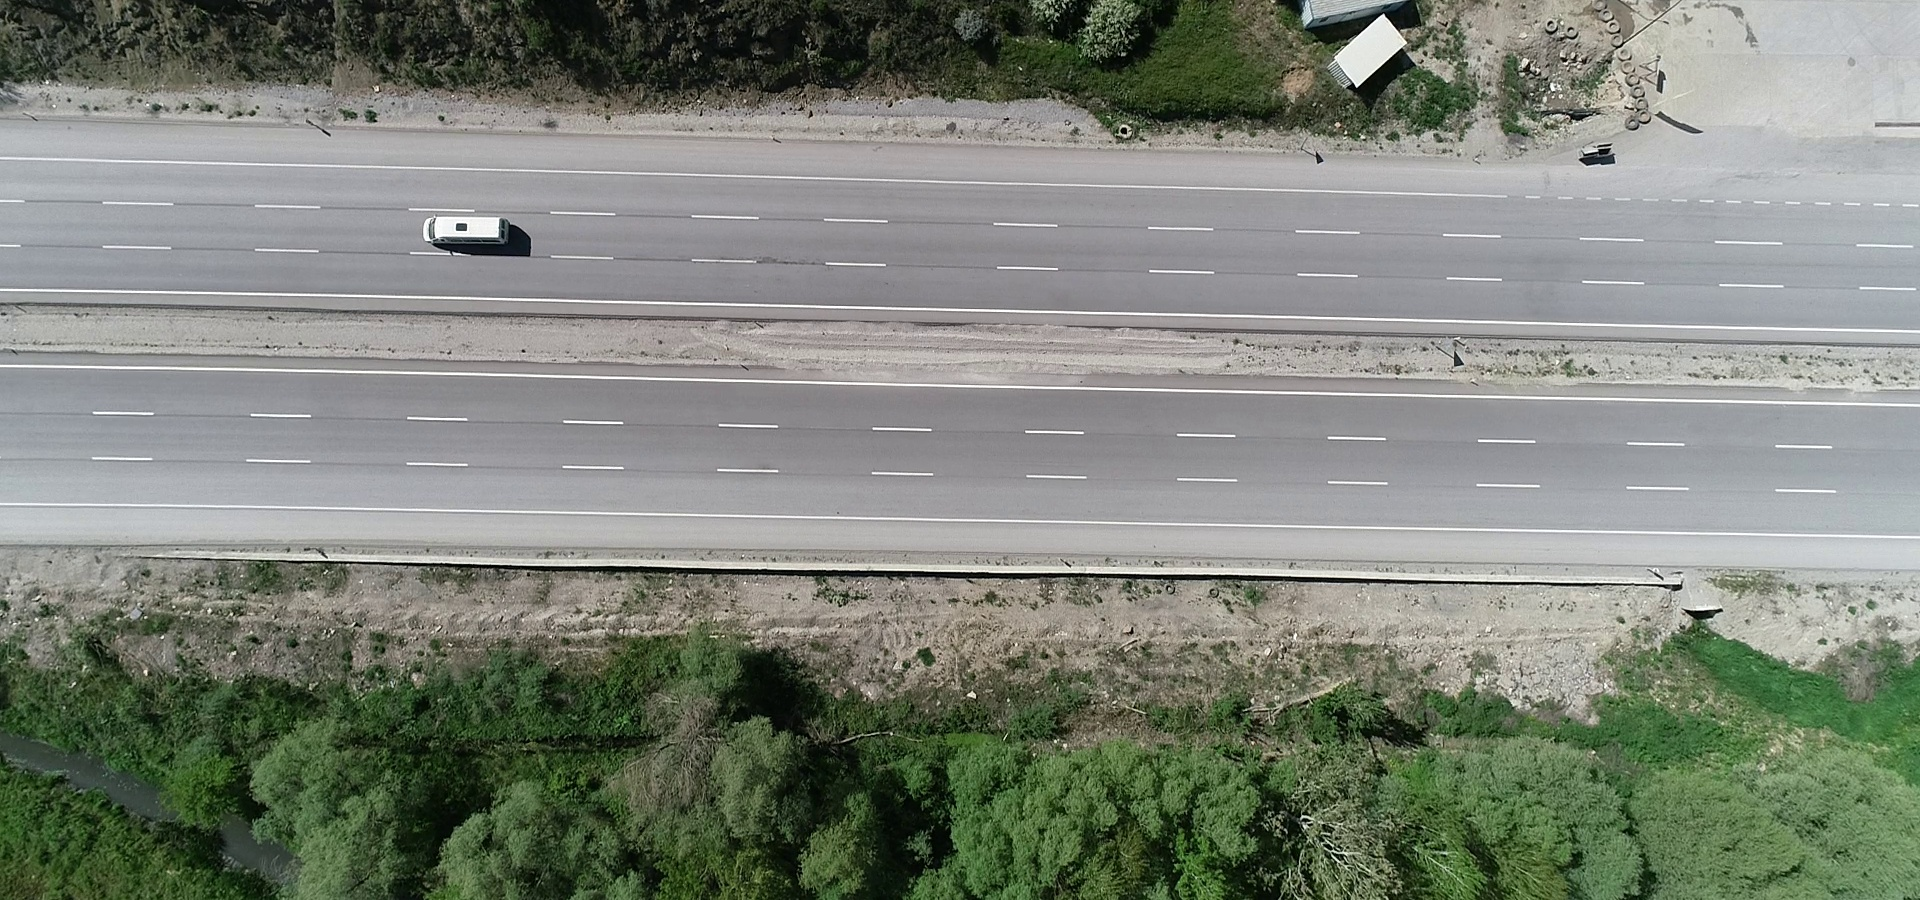araba: (421, 208, 523, 247)
